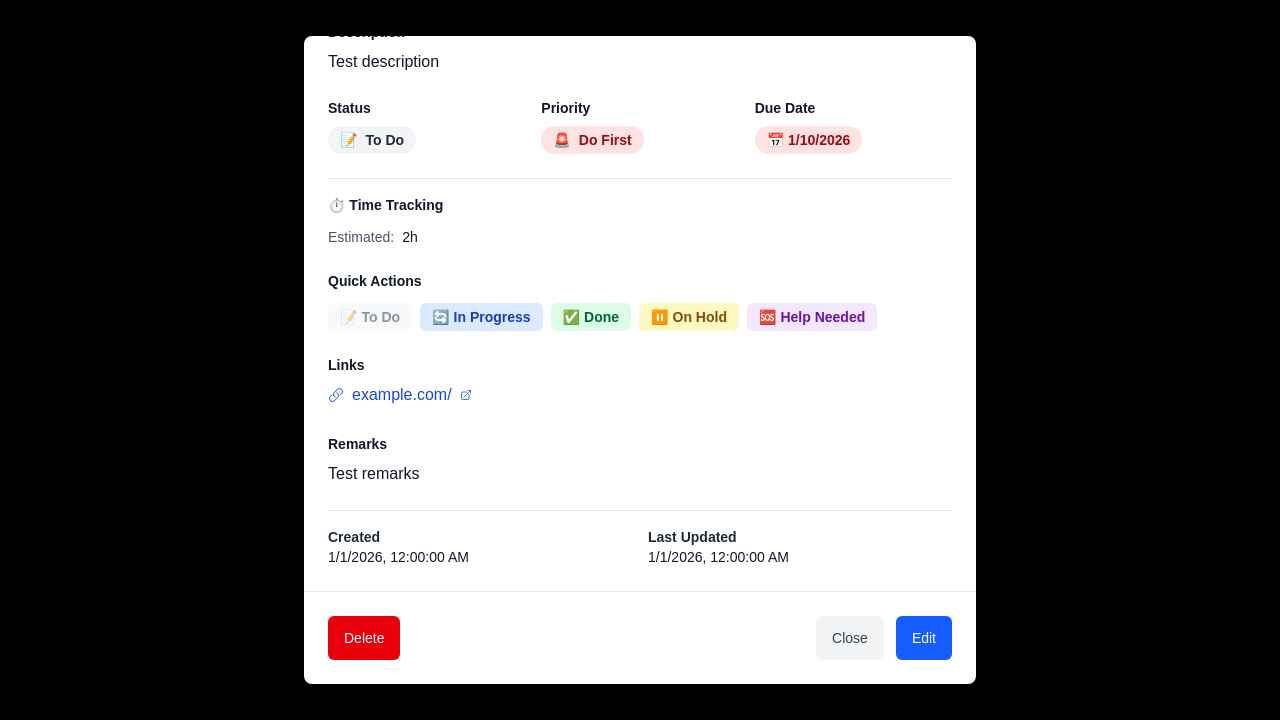
TaskDetailModal › Edit Mode › enters edit mode when Edit button is clicked
(page scrolled)
Click the button "Edit": point(924, 638) left=896, top=616, right=952, bottom=660
(page scrolled)
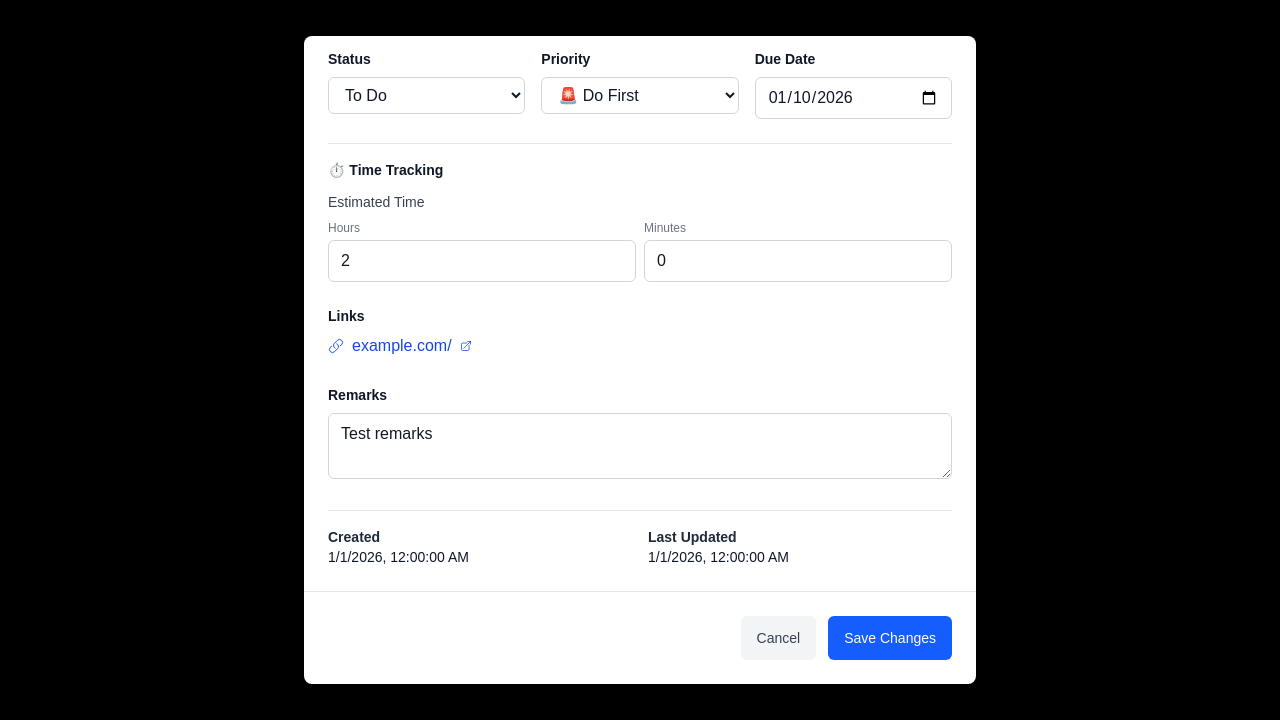
Expected: the button "Save Changes" is shown, left=828, top=616, right=952, bottom=660
Expected: the button "Cancel" is shown, left=741, top=616, right=816, bottom=660
